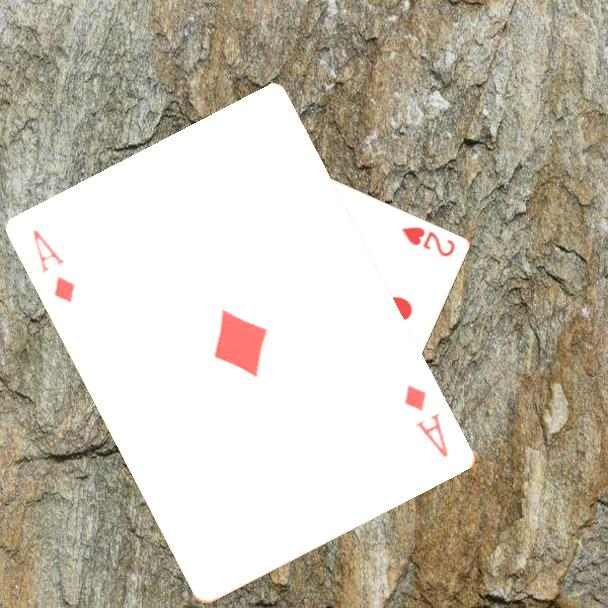d01: (401, 381, 452, 461), (30, 226, 79, 306)
h02: (397, 223, 458, 260)
